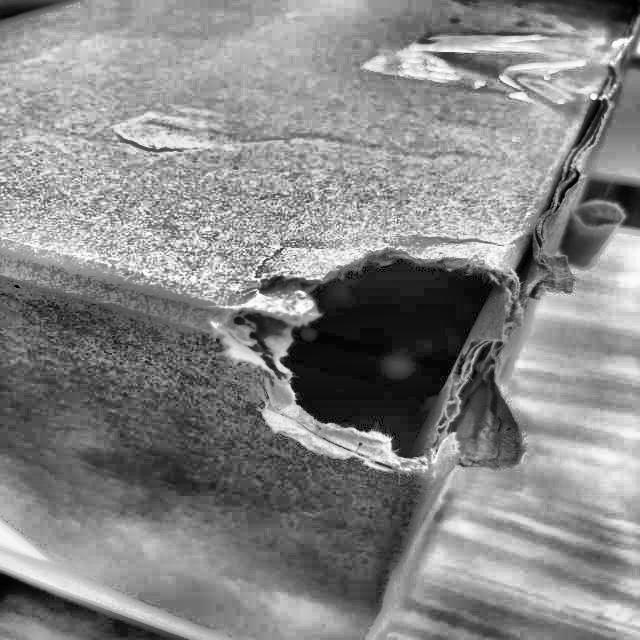box: (3, 0, 625, 640)
hole: (231, 251, 509, 461)
